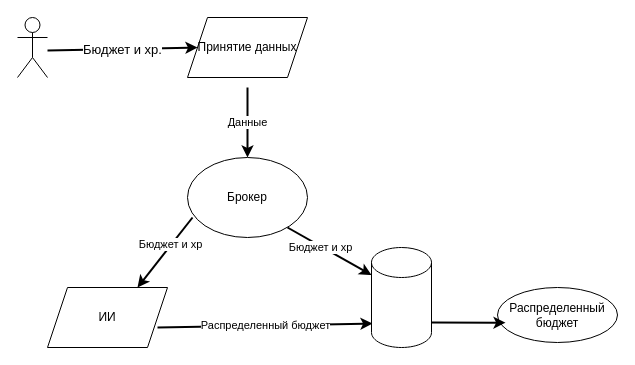
This 635x365 diagram has some shape labels left out. The shapes that lost their labels are listed below. From the top down, each one's centre as x and y in pixels, then its label:
(x=32, y=47): User
(x=401, y=297): База данных MongoDB
